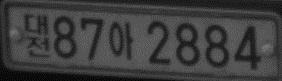2: (146, 20, 171, 65)
4: (233, 25, 261, 69)
7: (79, 17, 104, 60)
8: (174, 21, 200, 67), (203, 23, 229, 68), (53, 15, 77, 58)
대전_V: (23, 13, 51, 59)
아: (107, 21, 134, 60)
